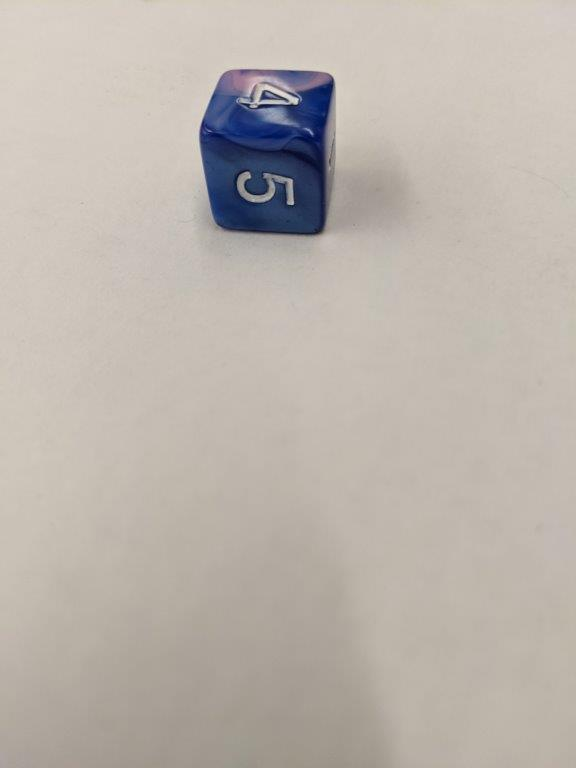d6-4: (197, 67, 338, 235)
